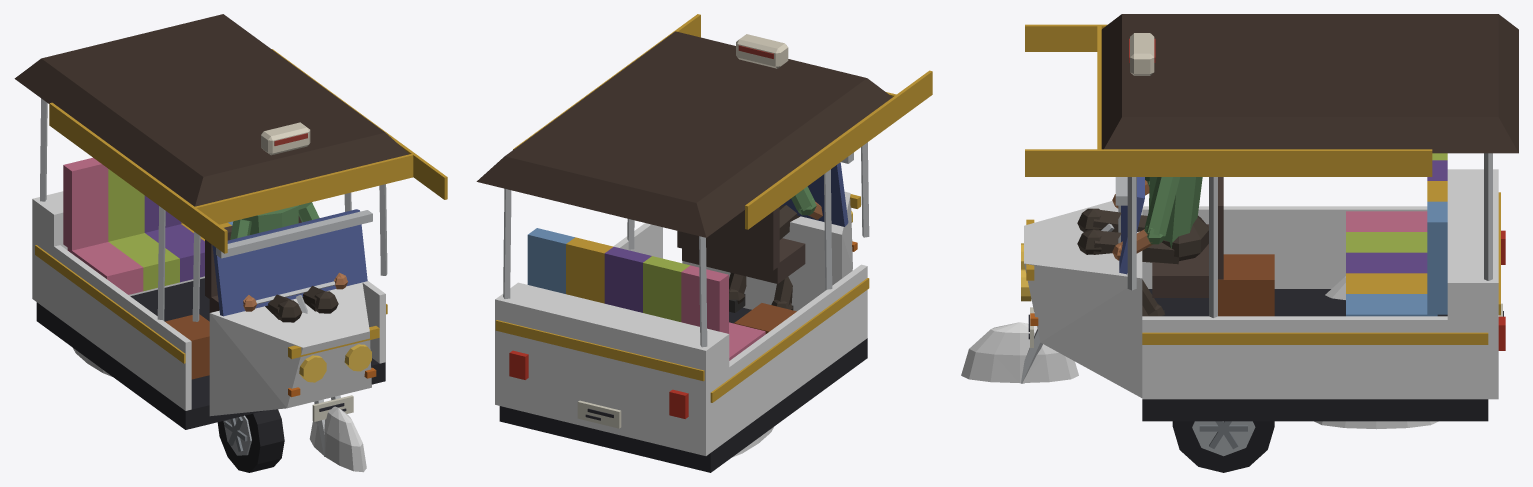
The model's file is tuktuk.glb.
3 views of the same model, side by side, from view 1: azimuth 30°, elevation 25°; view 2: azimuth 150°, elevation 25°; view 3: azimuth 270°, elevation 25° (orthographic). The views are drawn at different scales.
Parts seen in each view (by area): view 1: body, paint, wheel1, lights; view 2: body, paint, lights; view 3: body, paint, wheel1, lights.
Boxes of the visible parts, box(x1,y1,x2,y2) form: body: box(14, 14, 447, 456); paint: box(32, 191, 385, 472); wheel1: box(217, 409, 284, 472); lights: box(299, 344, 371, 382); body: box(476, 14, 932, 472); paint: box(495, 191, 867, 457); lights: box(509, 211, 852, 418); body: box(1020, 14, 1518, 421); paint: box(961, 169, 1498, 429); wheel1: box(1172, 421, 1274, 472); lights: box(1021, 230, 1505, 350).
Size of the model in its own units: 1.47 by 2.29 by 2.74.
